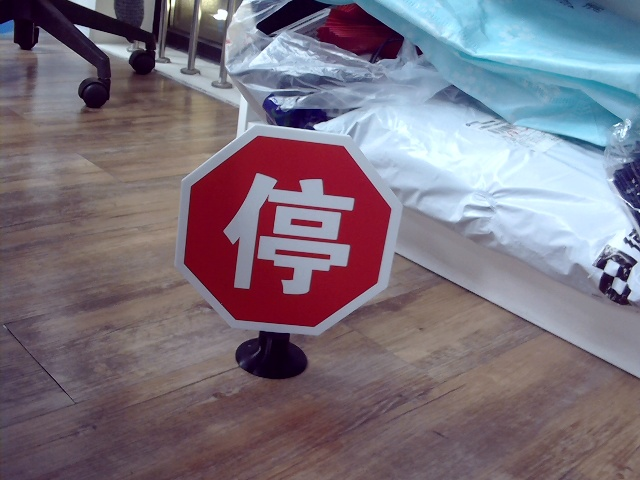stop: (224, 165, 345, 297)
